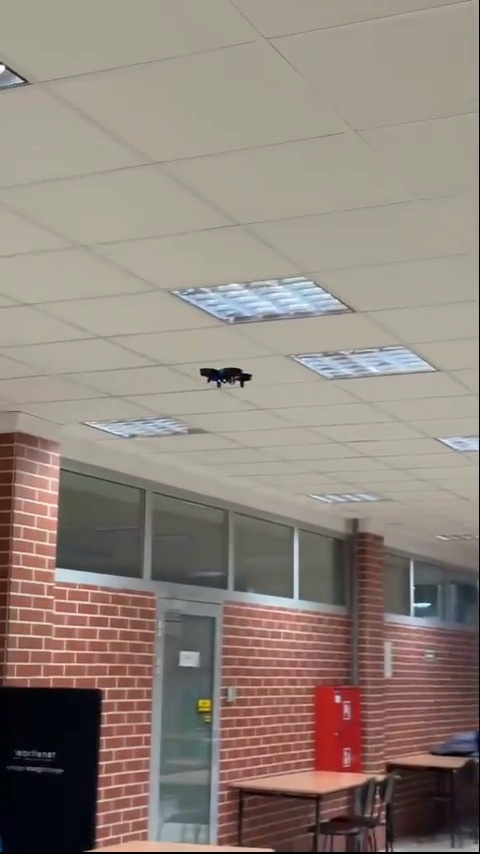drone: (199, 361, 255, 391)
